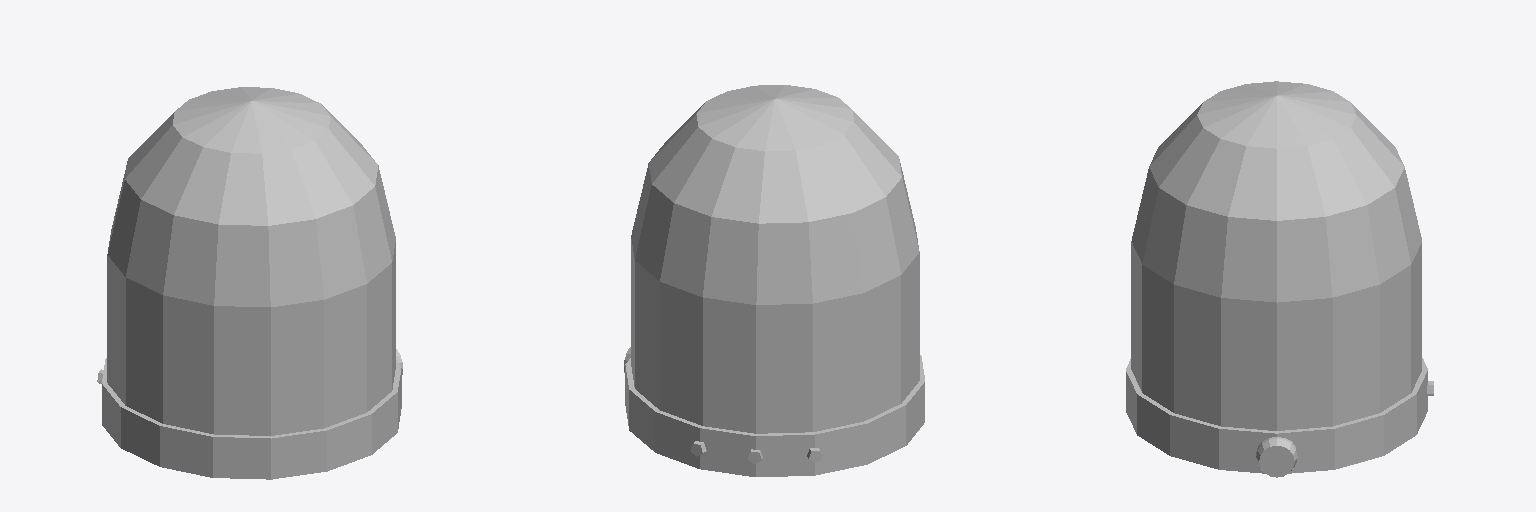
Rendered from cage.obj.
3 renders of one model, left to right at view 1: azimuth 30°, elevation 25°; view 2: azimuth 150°, elevation 25°; view 3: azimuth 270°, elevation 25°, orthographic.
Visible parts, largest first — view 1: Glass, Base; view 2: Glass, Base; view 3: Glass, Base, TubePort.
Boxes of the visible parts, x1=… form: Glass: x1=107, y1=87, x2=395, y2=435; Base: x1=102, y1=358, x2=401, y2=479; Glass: x1=631, y1=85, x2=919, y2=433; Base: x1=625, y1=355, x2=924, y2=476; Glass: x1=1131, y1=81, x2=1421, y2=430; Base: x1=1126, y1=358, x2=1427, y2=473; TubePort: x1=1256, y1=437, x2=1297, y2=477.
Bounding box in the file's own units: 2.09 × 2.3 × 2.04.